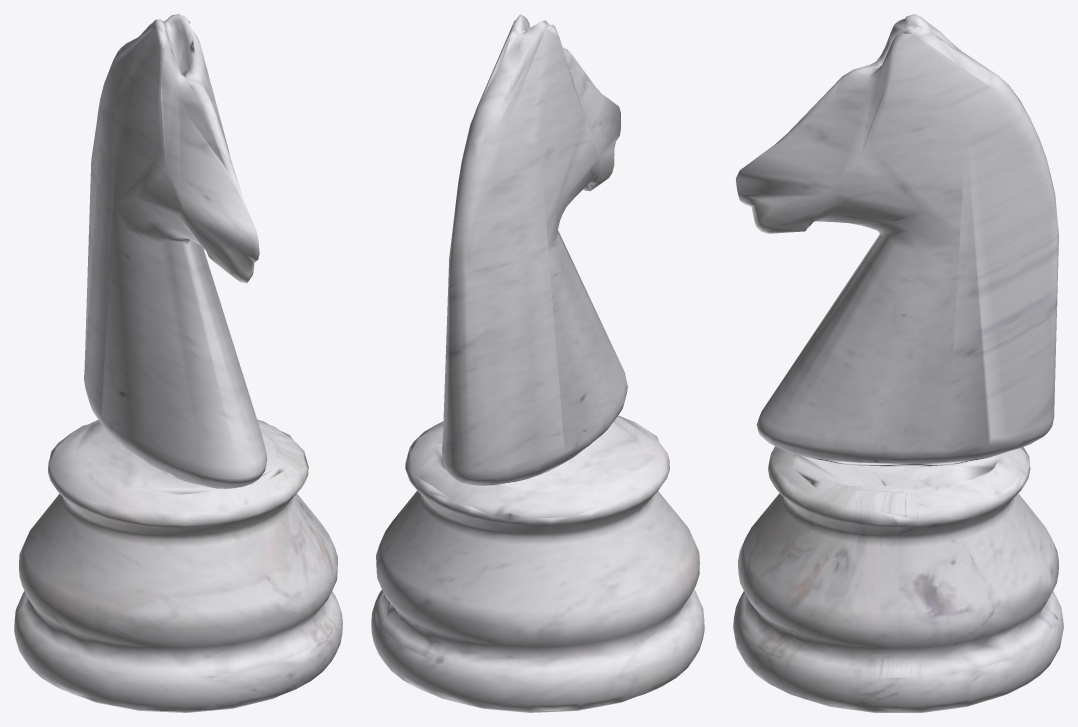
File: white_knight.glb
3 renders of one model, left to right at view 1: azimuth 30°, elevation 25°; view 2: azimuth 150°, elevation 25°; view 3: azimuth 270°, elevation 25°, orthographic.
Parts seen in each view (by area): view 1: Circle.025; view 2: Circle.025; view 3: Circle.025.
Boxes of the visible parts, left/top/right/bottom form: Circle.025: left=14, top=14, right=342, bottom=712; Circle.025: left=371, top=14, right=704, bottom=712; Circle.025: left=733, top=14, right=1063, bottom=712.
Bounding box in the file's own units: 1.33 × 2.8 × 1.33.
Materials: 1 (1 with a texture image).
